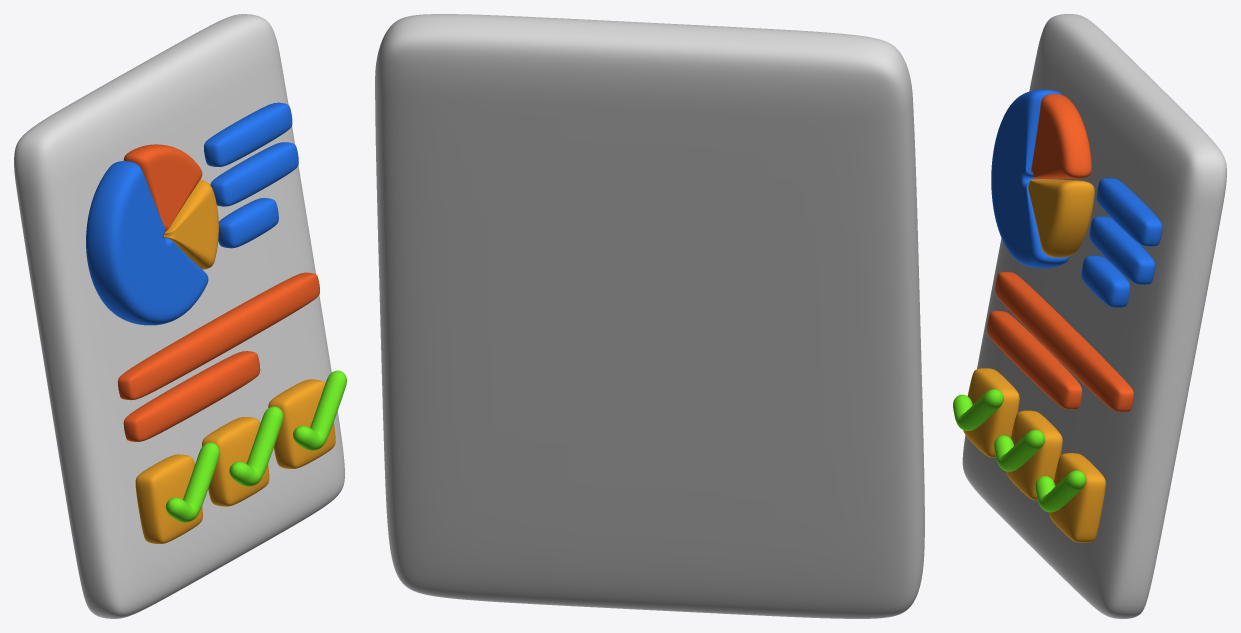
File: executive-summary-3d-animated-icon-1209333792486.glb
3 views of the same model, side by side, from view 1: azimuth 30°, elevation 25°; view 2: azimuth 150°, elevation 25°; view 3: azimuth 270°, elevation 25° (orthographic). The views are drawn at different scales.
Visible parts, largest first — view 1: board, big pie chart, data 4, data 5, box 1, medium pie chart, box 2, box 3, data 1, data 2, small pie chart, data 3 (+3 smaller); view 2: board; view 3: board, big pie chart, data 4, small pie chart, medium pie chart, data 5, box 3, box 1, box 2, data 1, data 2, data 3 (+3 smaller).
Boxes of the visible parts, x1,y1,x2,y2 form: board: (14, 14, 344, 618); big pie chart: (86, 161, 208, 325); data 4: (118, 272, 319, 400); data 5: (123, 351, 260, 441); box 1: (135, 454, 202, 543); medium pie chart: (123, 144, 202, 231); box 2: (202, 417, 269, 506); box 3: (268, 379, 335, 468); data 1: (204, 102, 292, 166); data 2: (210, 142, 298, 206); small pie chart: (164, 179, 218, 269); data 3: (218, 198, 278, 248); board: (375, 14, 924, 618); board: (962, 14, 1226, 618); big pie chart: (991, 89, 1069, 268); data 4: (995, 272, 1133, 411); small pie chart: (1028, 179, 1094, 257); medium pie chart: (1031, 93, 1091, 178); data 5: (987, 311, 1081, 409); box 3: (1049, 453, 1105, 542); box 1: (963, 368, 1019, 457); box 2: (1006, 410, 1062, 500); data 1: (1096, 178, 1162, 246); data 2: (1089, 216, 1155, 284); data 3: (1081, 255, 1130, 307).
Bounding box in the file's own units: 2.26 × 2.87 × 1.54.
